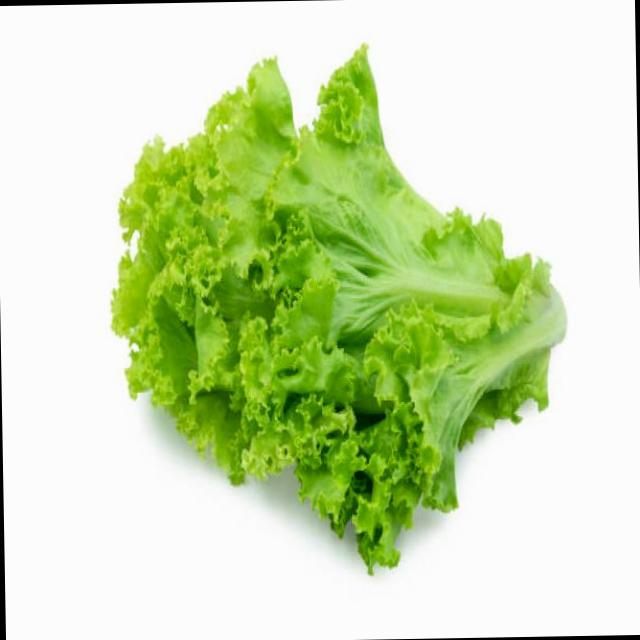Lettuce-Ready-to-Harvest: (112, 48, 565, 570)
